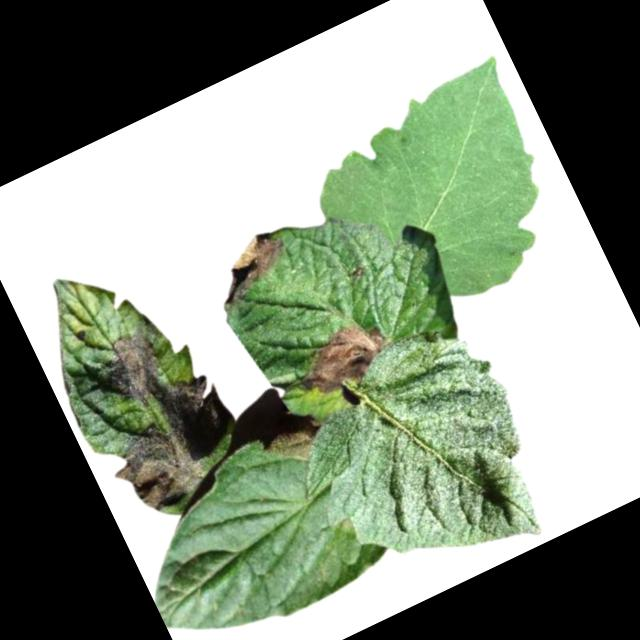Late_blight: (88, 365, 256, 525), (282, 310, 398, 407), (86, 310, 185, 411), (202, 225, 300, 310), (263, 415, 330, 473), (348, 263, 372, 285)
healthy: (263, 307, 570, 620), (293, 57, 583, 340)
